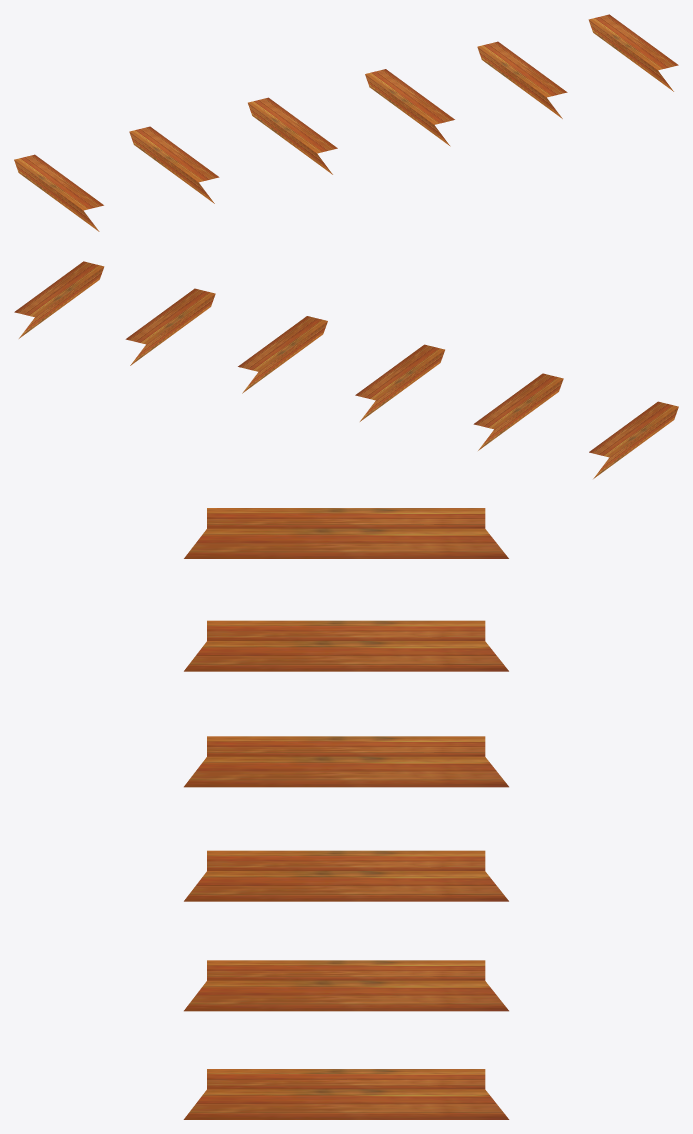
File: PlayGroundMonekybars01.glb
3 views of the same model, one above another, from view 1: azimuth 30°, elevation 25°; view 2: azimuth 150°, elevation 25°; view 3: azimuth 270°, elevation 25° (orthographic). The views are drawn at different scales.
Visible parts, largest first — view 1: PlayGroundMonekybars01; view 2: PlayGroundMonekybars01; view 3: PlayGroundMonekybars01.
Part boxes in pixels (<box>): PlayGroundMonekybars01: <box>14,14,678,231</box>; PlayGroundMonekybars01: <box>14,261,678,478</box>; PlayGroundMonekybars01: <box>183,508,509,1119</box>.
Bounding box in the file's own units: 1011 × 32.9 × 240.
1 material, 1 textured.
